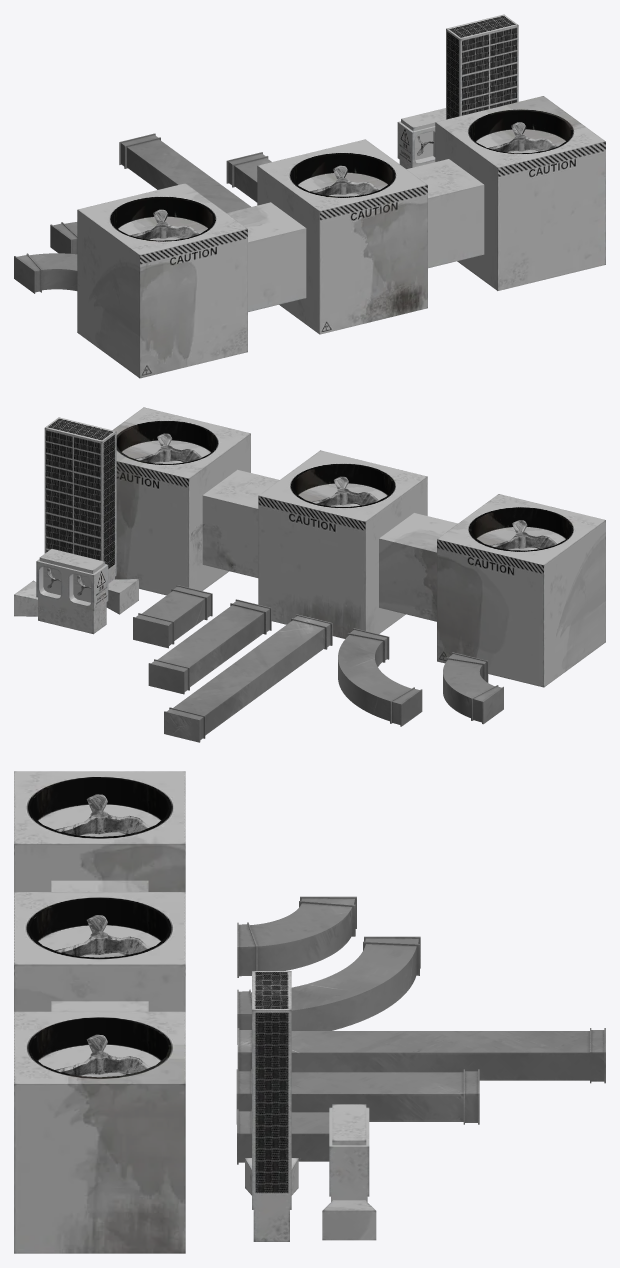
Rendered from roof_kit.glb.
3 views of the same model, one above another, from view 1: azimuth 30°, elevation 25°; view 2: azimuth 150°, elevation 25°; view 3: azimuth 270°, elevation 25° (orthographic). The views are drawn at different scales.
Parts seen in each view (by area): view 1: Object_2, Object_3, Object_4; view 2: Object_2, Object_3, Object_4; view 3: Object_2, Object_3, Object_4.
Boxes of the visible parts, <box> form: Object_2: <box>77,14,605,378</box>; Object_3: <box>14,133,271,293</box>; Object_4: <box>130,122,556,239</box>; Object_2: <box>14,407,605,687</box>; Object_3: <box>133,585,503,742</box>; Object_4: <box>47,433,556,595</box>; Object_2: <box>14,771,376,1253</box>; Object_3: <box>236,896,605,1164</box>; Object_4: <box>55,794,149,1075</box>.
Size of the model in its own units: 32.92 by 11.89 by 26.26.
3 materials, 3 textured.
